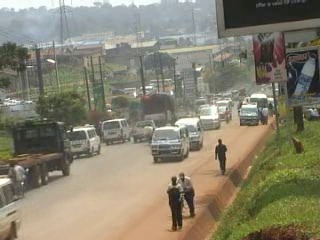Car: (197, 104, 223, 132)
Motorcycle: (7, 161, 30, 199), (141, 125, 156, 144), (223, 107, 232, 123)
